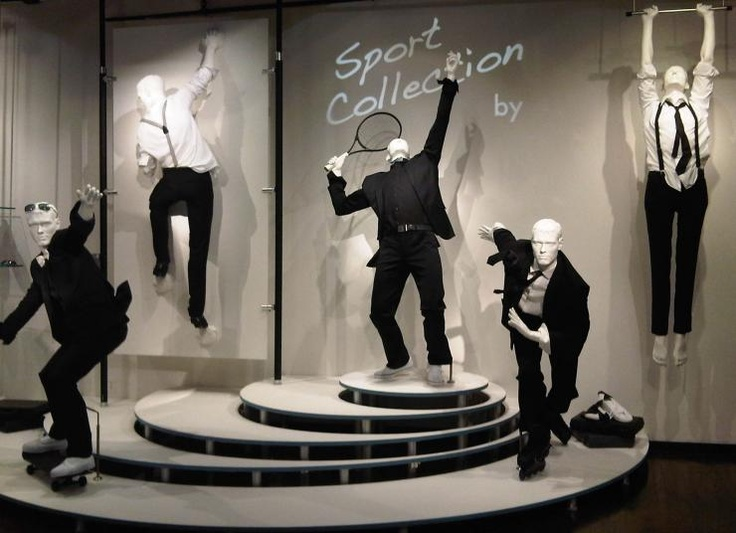person-like: (317, 46, 464, 386), (2, 182, 139, 486), (631, 1, 723, 374), (477, 212, 594, 481), (128, 24, 224, 334)
